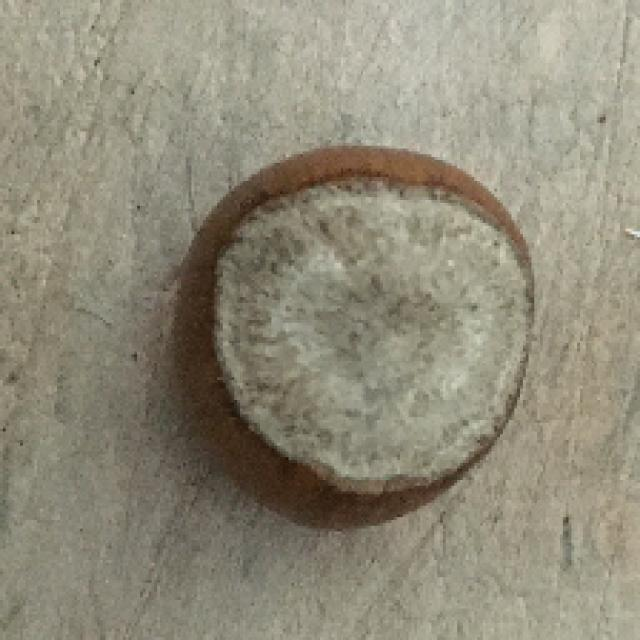qualityHazelnut: (173, 132, 542, 534)
